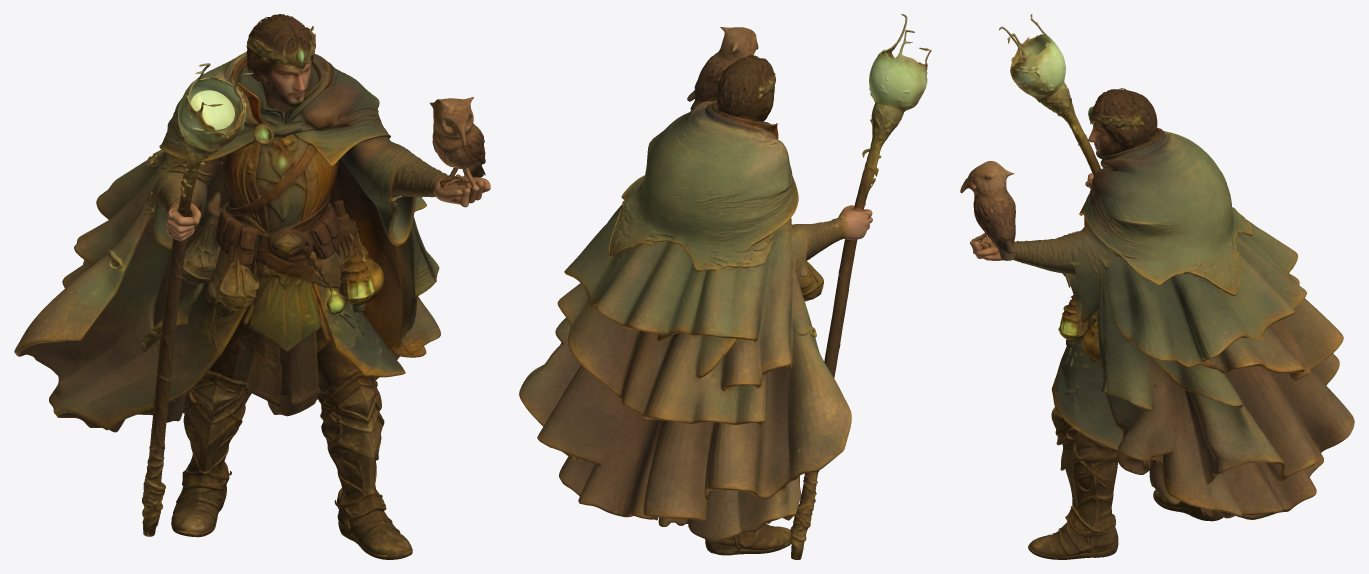
File: druid_full_male_01.glb
3 renders of one model, left to right at view 1: azimuth 30°, elevation 25°; view 2: azimuth 150°, elevation 25°; view 3: azimuth 270°, elevation 25°, orthographic. The views are drawn at different scales.
Parts seen in each view (by area): view 1: material; view 2: material; view 3: material.
Part boxes in pixels (x1=…): material: x1=14, y1=14, x2=490, y2=559; material: x1=519, y1=14, x2=931, y2=559; material: x1=960, y1=14, x2=1354, y2=559.
Size of the model in its own units: 0.6791 by 0.9636 by 0.7504.
1 material, 1 textured.
